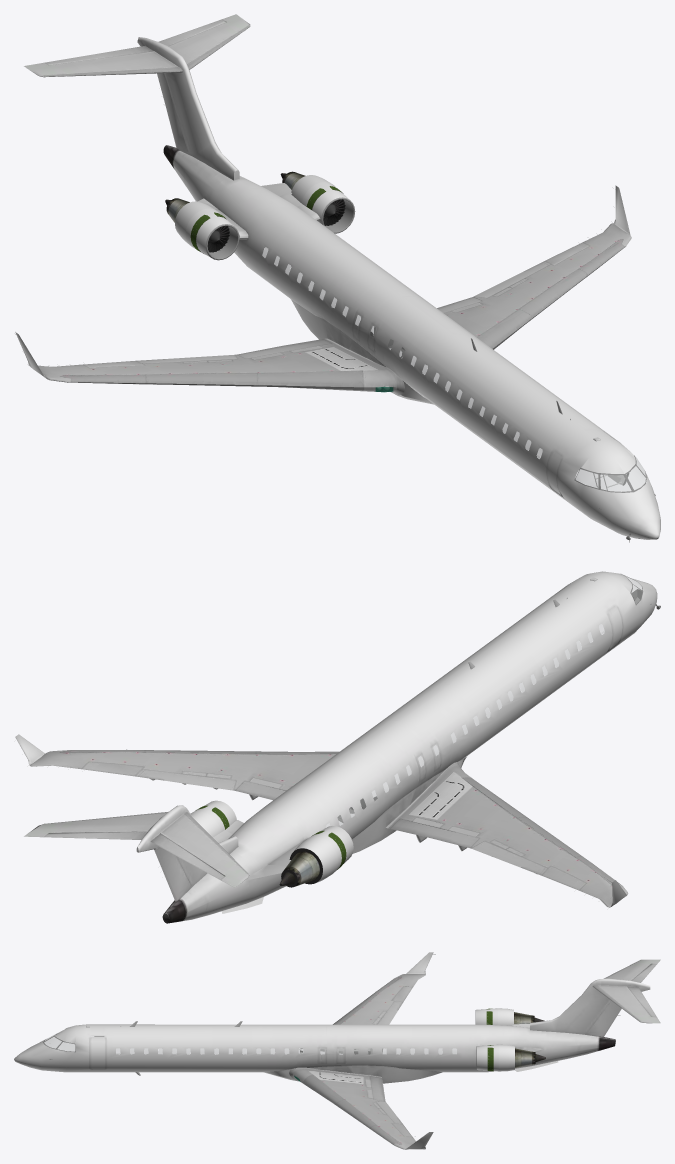
File: crj900.glb
3 renders of one model, top to bottom at view 1: azimuth 30°, elevation 25°; view 2: azimuth 150°, elevation 25°; view 3: azimuth 270°, elevation 25°, orthographic. The views are drawn at different scales.
Visible parts, largest first — view 1: Winglets, Windows, Nozzle, WingWires; view 2: Winglets, Nozzle, Windows, WingWires; view 3: Winglets, Windows, Nozzle.
Part boxes in pixels (box(x1,y1,x2,y2)): Winglets: box(15, 14, 660, 539); Windows: box(262, 247, 645, 491); Nozzle: box(165, 171, 355, 260); WingWires: box(15, 190, 655, 542); Winglets: box(15, 571, 657, 923); Nozzle: box(195, 805, 346, 886); Windows: box(326, 576, 642, 827); WingWires: box(279, 577, 660, 900); Winglets: box(14, 952, 660, 1149); Windows: box(44, 1034, 456, 1081); Nozzle: box(475, 1008, 545, 1071).
Bounding box in the file's own units: 23.89 × 6.09 × 36.36.
Materials: 4 (4 with a texture image).
